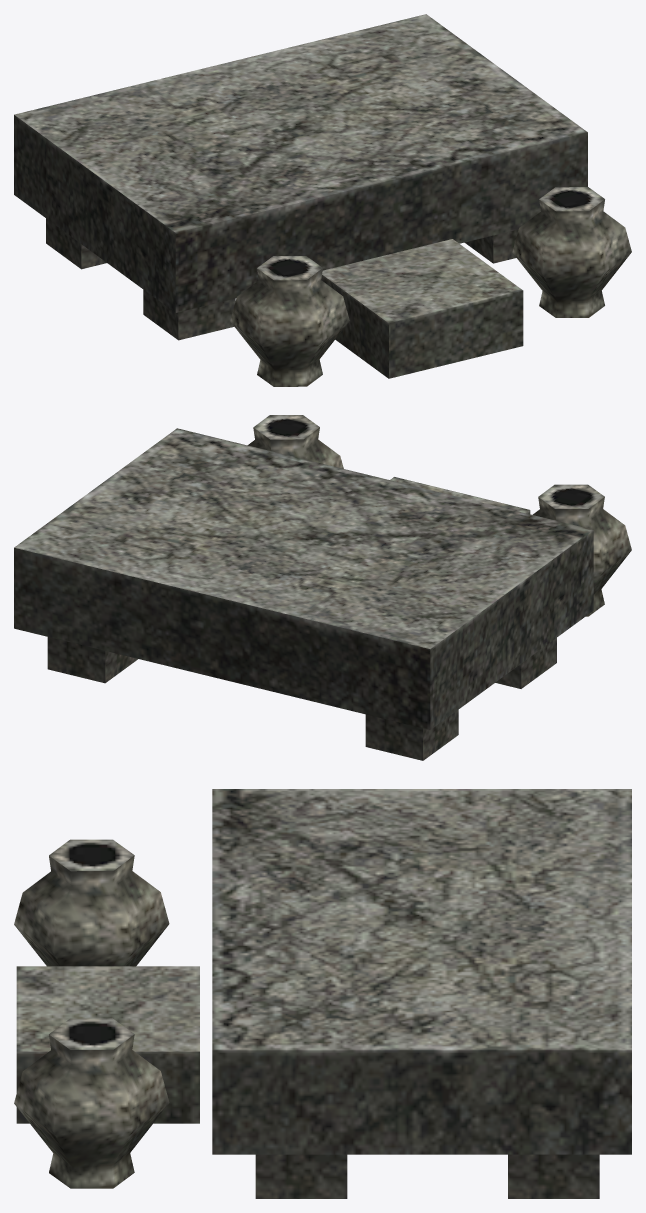
The picture shows the model from 3 angles, top to bottom: view 1: azimuth 30°, elevation 25°; view 2: azimuth 150°, elevation 25°; view 3: azimuth 270°, elevation 25°; orthographic projection. The views are drawn at different scales.
Parts seen in each view (by area): view 1: ob-12-05; view 2: ob-12-05; view 3: ob-12-05.
Boxes of the visible parts, x1,y1,x2,y2 form: ob-12-05: [14, 14, 631, 386]; ob-12-05: [14, 415, 631, 760]; ob-12-05: [14, 789, 631, 1198].
Size of the model in its own units: 2.35 by 0.6784 by 2.35.
